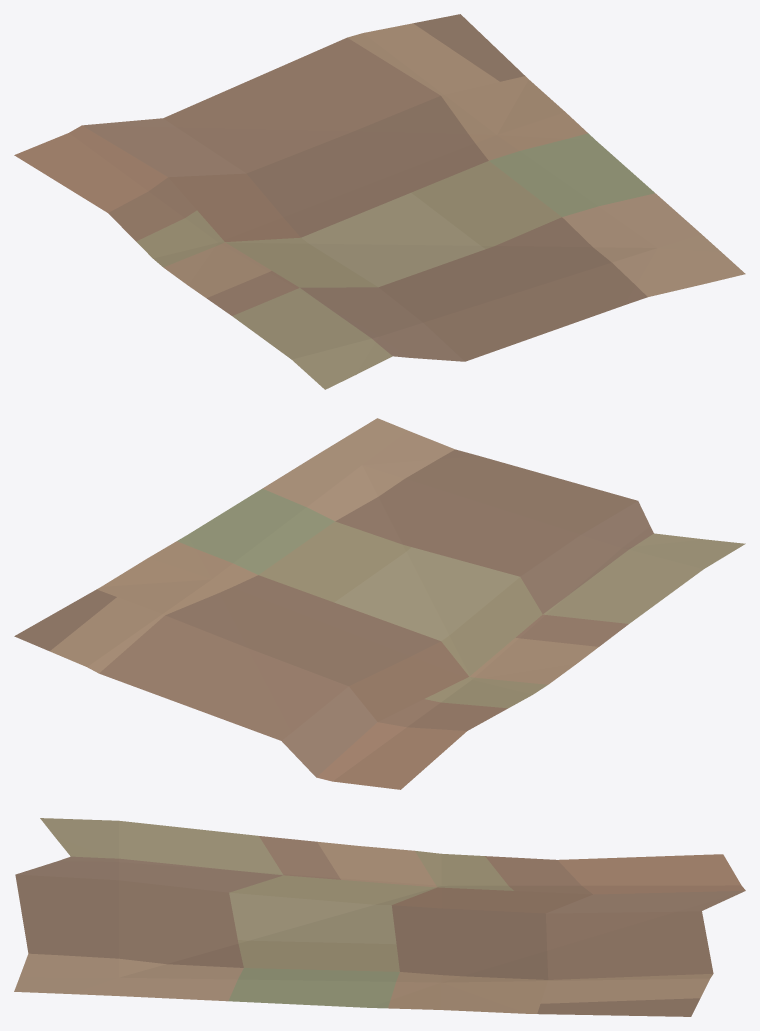
Rendered from farm_30_19_soil.glb.
3 views of the same model, one above another, from view 1: azimuth 30°, elevation 25°; view 2: azimuth 150°, elevation 25°; view 3: azimuth 270°, elevation 25° (orthographic). The views are drawn at different scales.
Visible parts, largest first — view 1: geometry_0; view 2: geometry_0; view 3: geometry_0.
Boxes of the visible parts, box(x1,y1,x2,y2) form: geometry_0: box(14, 14, 745, 389); geometry_0: box(14, 418, 745, 789); geometry_0: box(14, 818, 745, 1016).
Bounding box in the file's own units: 132 × 13.21 × 181.
